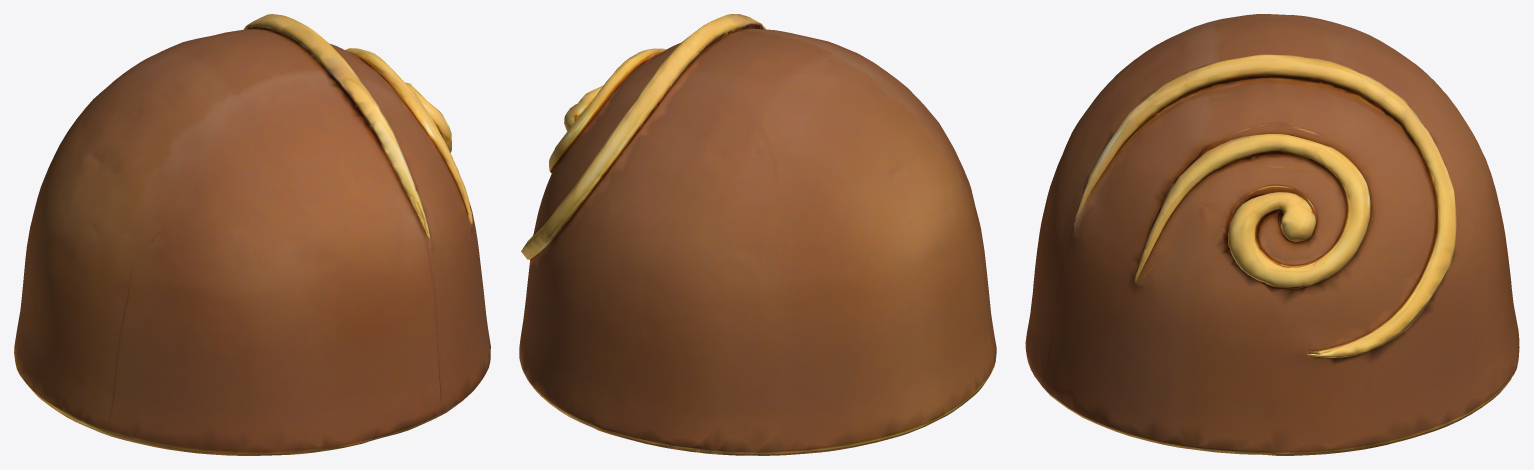
File: Golden.glb
3 renders of one model, left to right at view 1: azimuth 30°, elevation 25°; view 2: azimuth 150°, elevation 25°; view 3: azimuth 270°, elevation 25°, orthographic. The views are drawn at different scales.
Size of the model in its own units: 2 by 1.54 by 2.01.
Materials: 1 (1 with a texture image).
